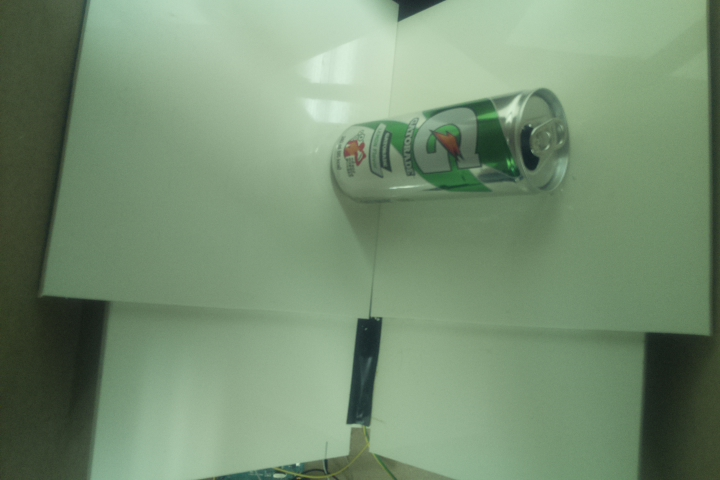can: (330, 86, 574, 202)
